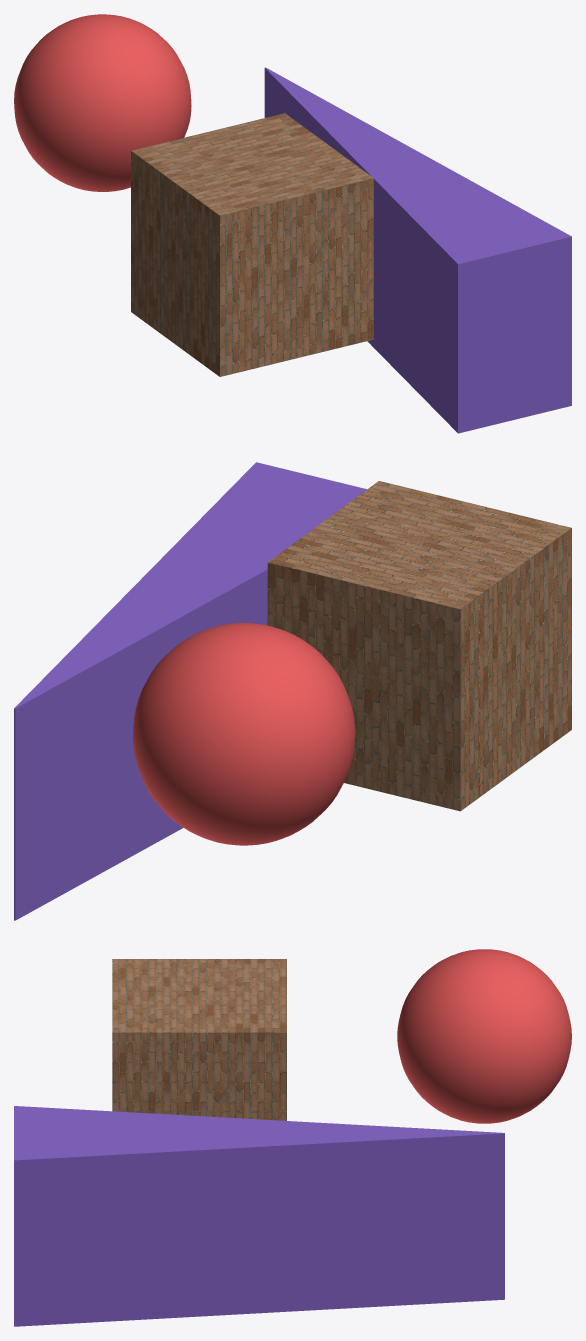
File: axisCube.dae
3 renders of one model, top to bottom at view 1: azimuth 30°, elevation 25°; view 2: azimuth 150°, elevation 25°; view 3: azimuth 270°, elevation 25°, orthographic. The views are drawn at different scales.
Visible parts, largest first — view 1: Cube_001, Cube, Sphere; view 2: Cube_001, Cube, Sphere; view 3: Cube, Cube_001, Sphere.
Part boxes in pixels (x1=…): Cube_001: x1=131, y1=113, x2=373, y2=376; Cube: x1=264, y1=67, x2=571, y2=433; Sphere: x1=14, y1=14, x2=191, y2=191; Cube_001: x1=267, y1=481, x2=571, y2=811; Cube: x1=14, y1=462, x2=366, y2=920; Sphere: x1=133, y1=623, x2=355, y2=845; Cube: x1=14, y1=1106, x2=504, y2=1326; Cube_001: x1=112, y1=959, x2=286, y2=1120; Sphere: x1=397, y1=949, x2=571, y2=1123.
Size of the model in its own units: 3.98 by 6.38 by 3.27.
